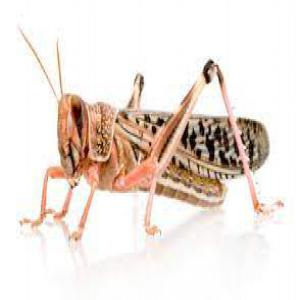locust: (30, 63, 300, 233)
